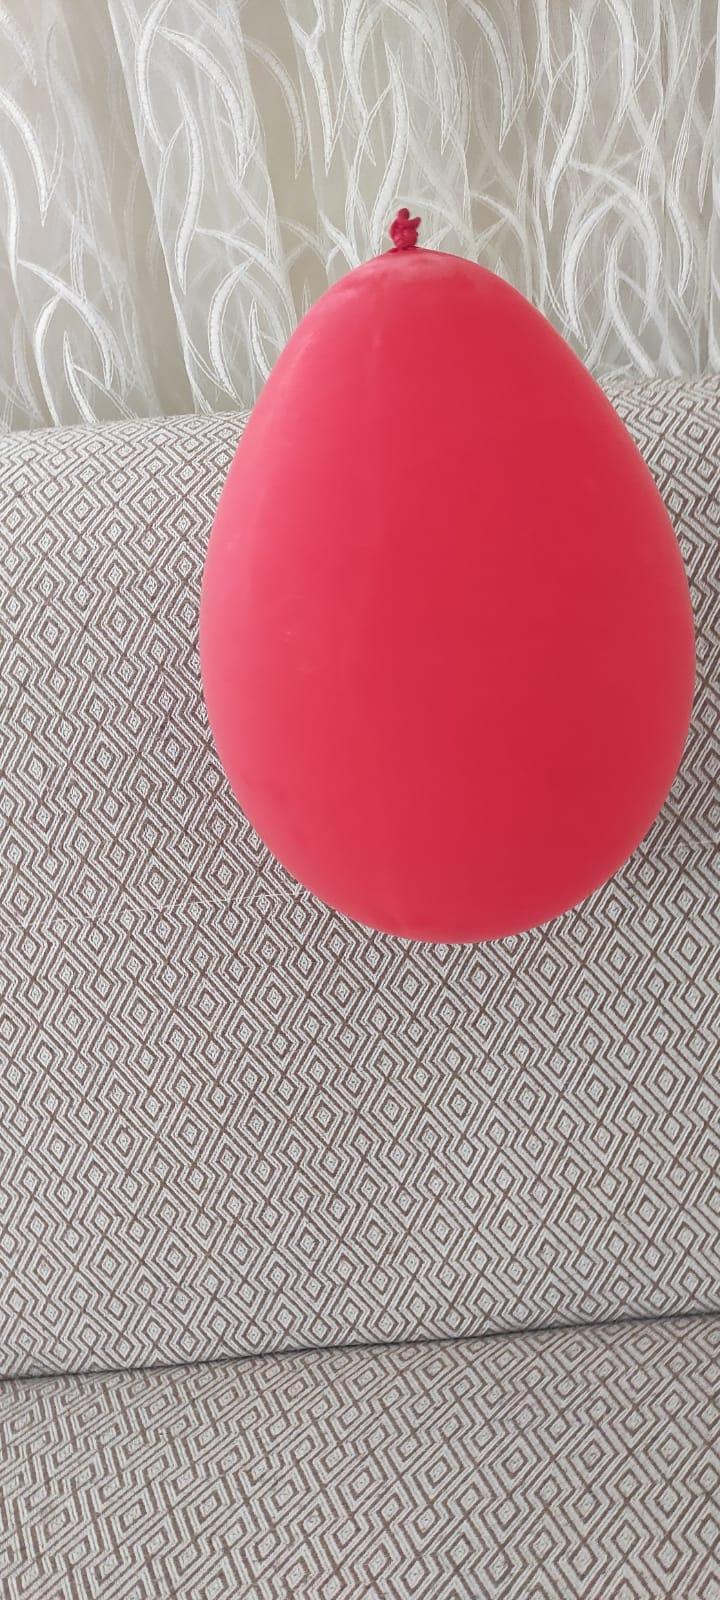red: (197, 204, 698, 953)
